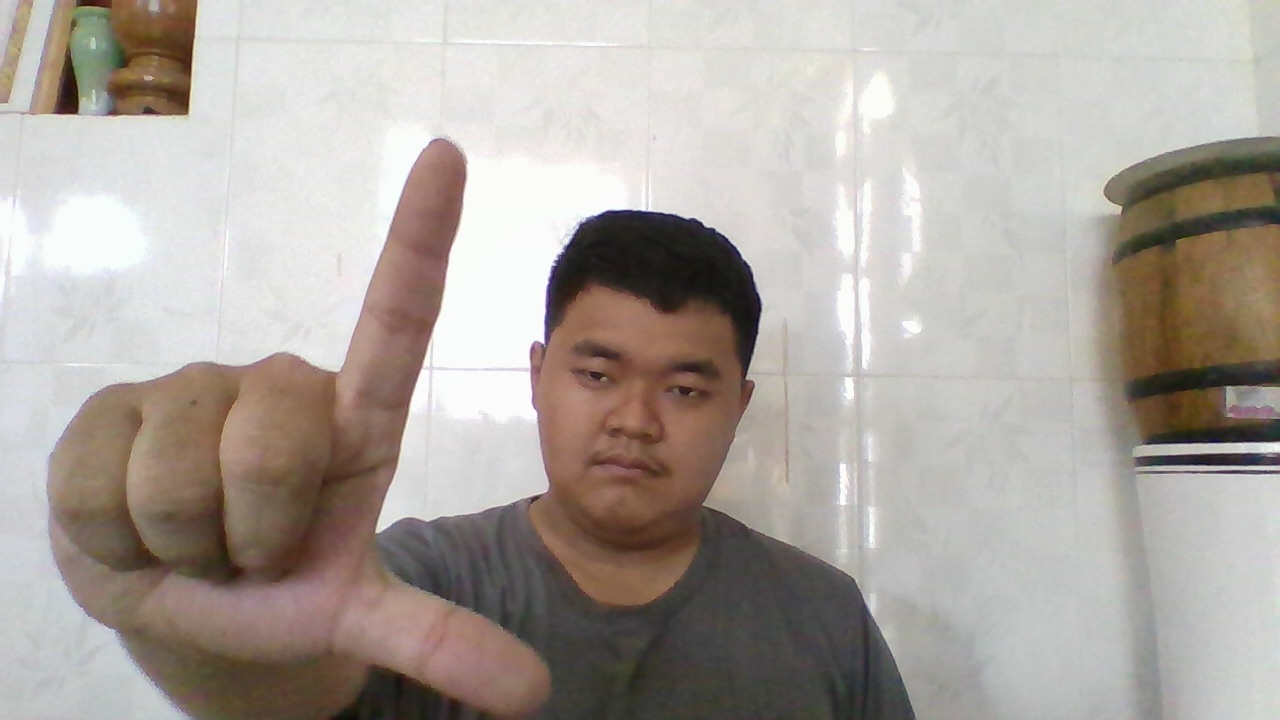L: (73, 149, 532, 696)
